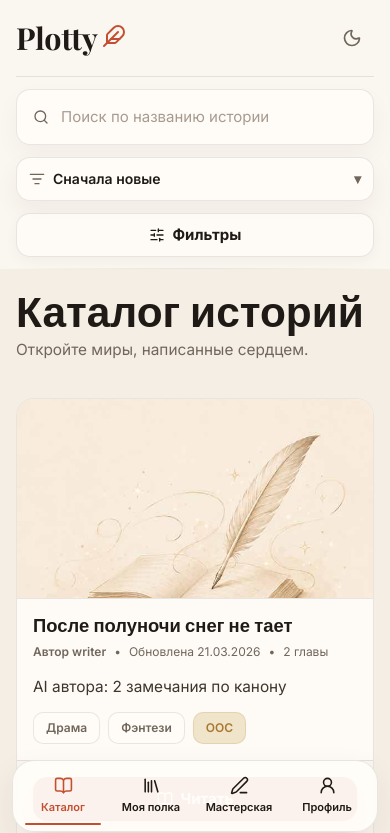
Test: StoriesCatalogShell › keeps newest as the default catalog sort but shows popularity first in the popup
Click the button with aria-label "Сортировка": point(107, 178) [16,157,374,201]
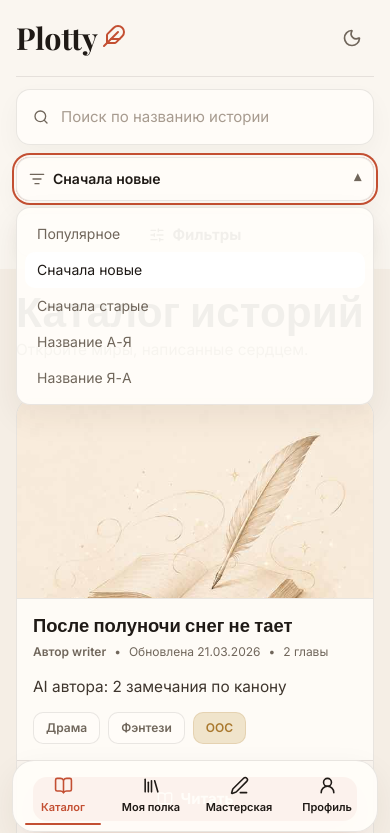
Check: the options read "Популярное", "Сначала новые", "Сначала старые", "Название А-Я", "Название Я-А", in this order, box [25,216,365,252]; [25,252,365,288]; [25,288,365,324]; [25,324,365,360]; [25,360,365,396]
